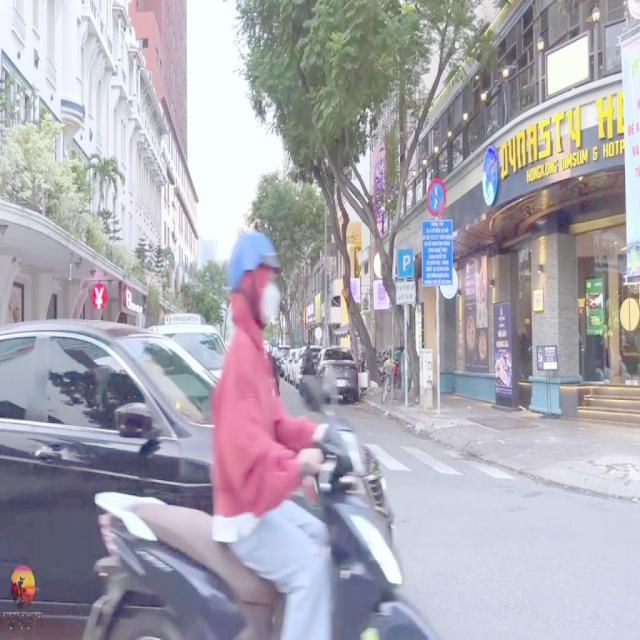cam_do_xe: (428, 178, 448, 216)
khac: (397, 250, 413, 282), (396, 282, 415, 306)
